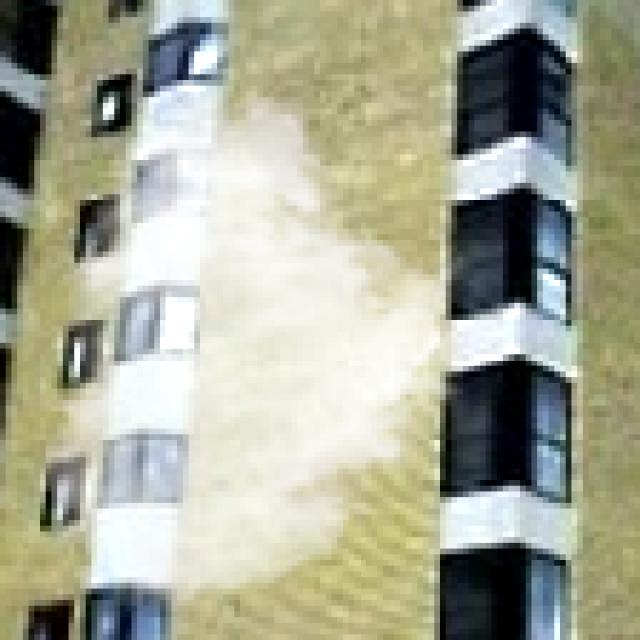smoke: (40, 86, 474, 617)
